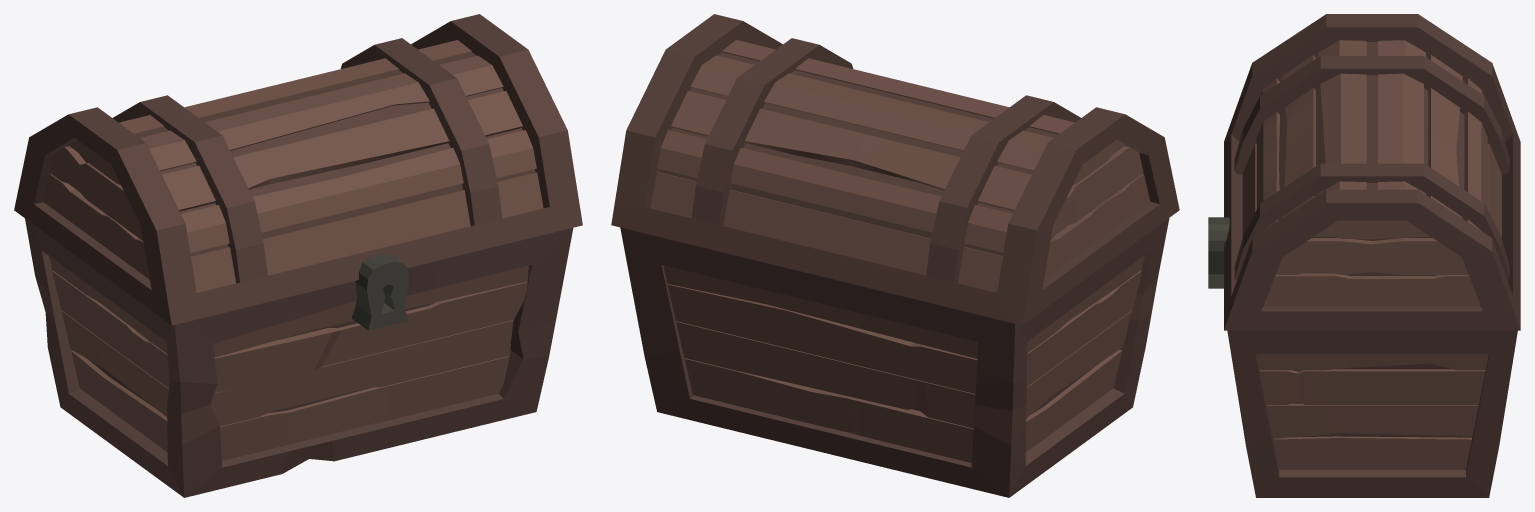
Rendered from chest.glb.
The picture shows the model from 3 angles, left to right: view 1: azimuth 30°, elevation 25°; view 2: azimuth 150°, elevation 25°; view 3: azimuth 270°, elevation 25°; orthographic projection. The views are drawn at different scales.
Parts seen in each view (by area): view 1: top, base; view 2: top, base; view 3: top, base.
Part boxes in pixels (bbox=[...]): top: bbox=[14, 14, 582, 325]; base: bbox=[25, 218, 573, 497]; top: bbox=[611, 14, 1179, 325]; base: bbox=[620, 218, 1169, 497]; top: bbox=[1224, 14, 1520, 330]; base: bbox=[1208, 217, 1517, 497].
Bounding box in the file's own units: 1.18 × 0.8985 × 0.8238.
